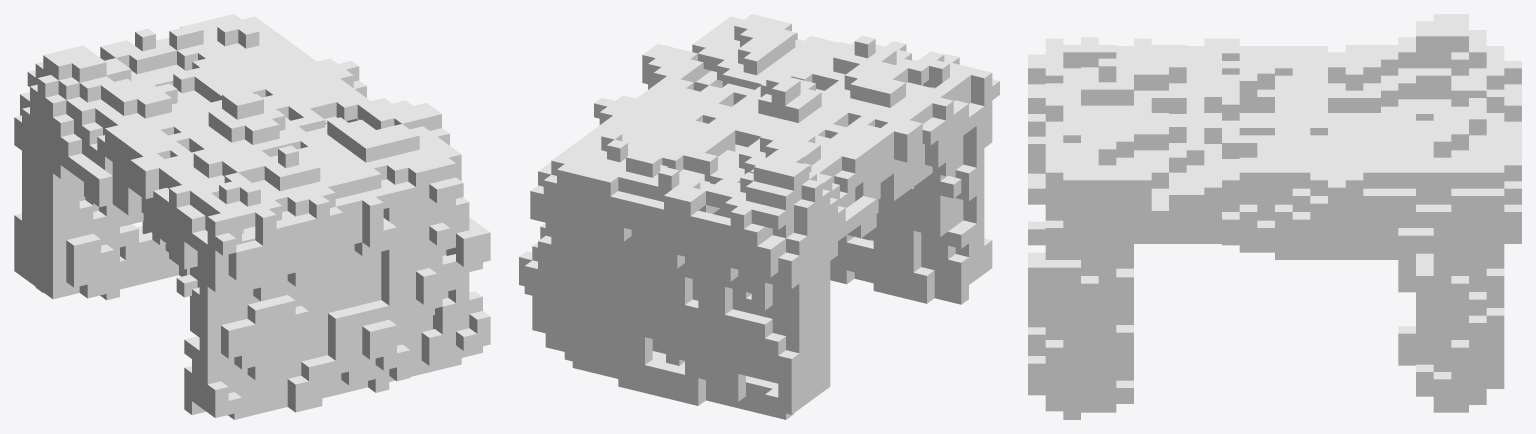
The model's file is voxel04_optimized.fbx.
3 views of the same model, side by side, from view 1: azimuth 30°, elevation 25°; view 2: azimuth 150°, elevation 25°; view 3: azimuth 270°, elevation 25° (orthographic). The views are drawn at different scales.
Visible parts, largest first — view 1: voxelize; view 2: voxelize; view 3: voxelize.
Boxes of the visible parts, left/top/right/bottom form: voxelize: left=14, top=14, right=490, bottom=419; voxelize: left=519, top=14, right=999, bottom=419; voxelize: left=1028, top=14, right=1521, bottom=419.
Bounding box in the file's own units: 2.52 × 2.04 × 3.36.
